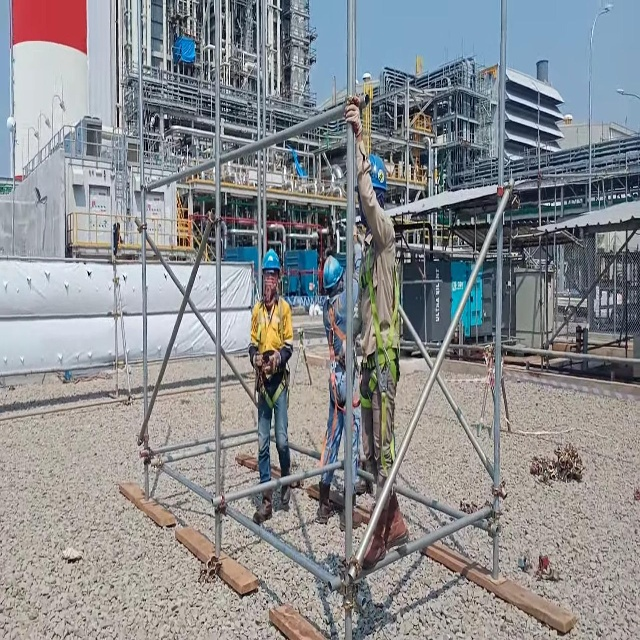Arnes_seguridad: (354, 246, 403, 470), (321, 288, 358, 455), (254, 296, 293, 417)
